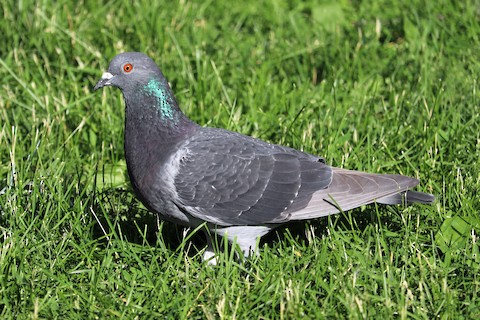pigeon: (94, 47, 443, 285)
